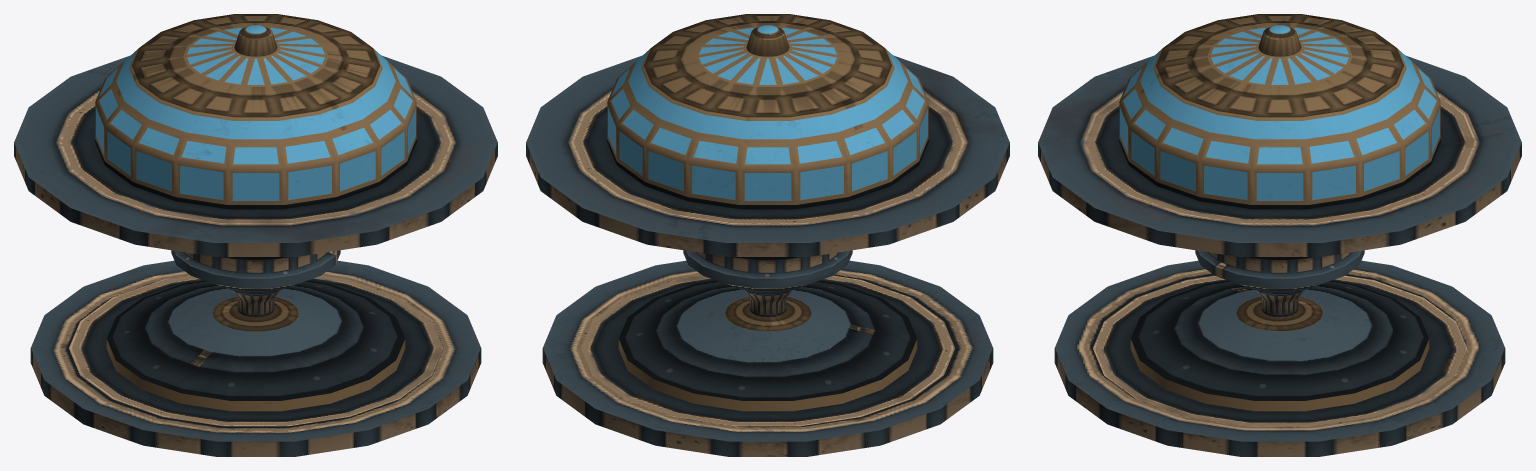
The model's file is Desk Lamp 3.fbx.
3 views of the same model, side by side, from view 1: azimuth 30°, elevation 25°; view 2: azimuth 150°, elevation 25°; view 3: azimuth 270°, elevation 25° (orthographic).
Visible parts, largest first — view 1: Cylinder; view 2: Cylinder; view 3: Cylinder.
Part boxes in pixels (left/top/right/bottom): Cylinder: left=14, top=14, right=497, bottom=456; Cylinder: left=526, top=14, right=1009, bottom=456; Cylinder: left=1038, top=14, right=1521, bottom=456.
Size of the model in its own units: 80.59 by 62.29 by 81.84.
